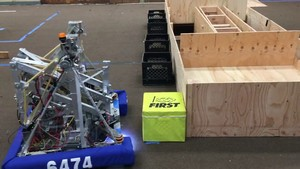cube: (140, 90, 188, 144)
